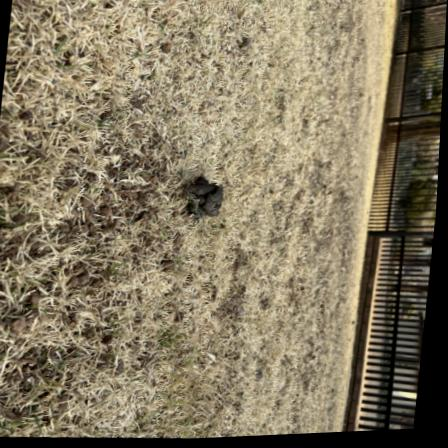dog-poop: (173, 173, 240, 227)
